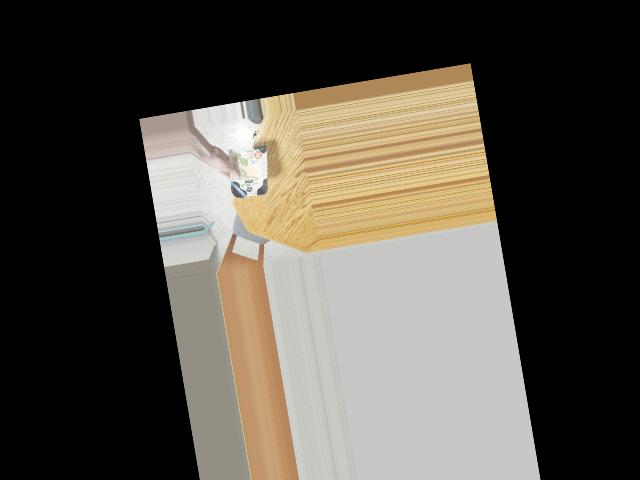cheese: (220, 135, 268, 206)
